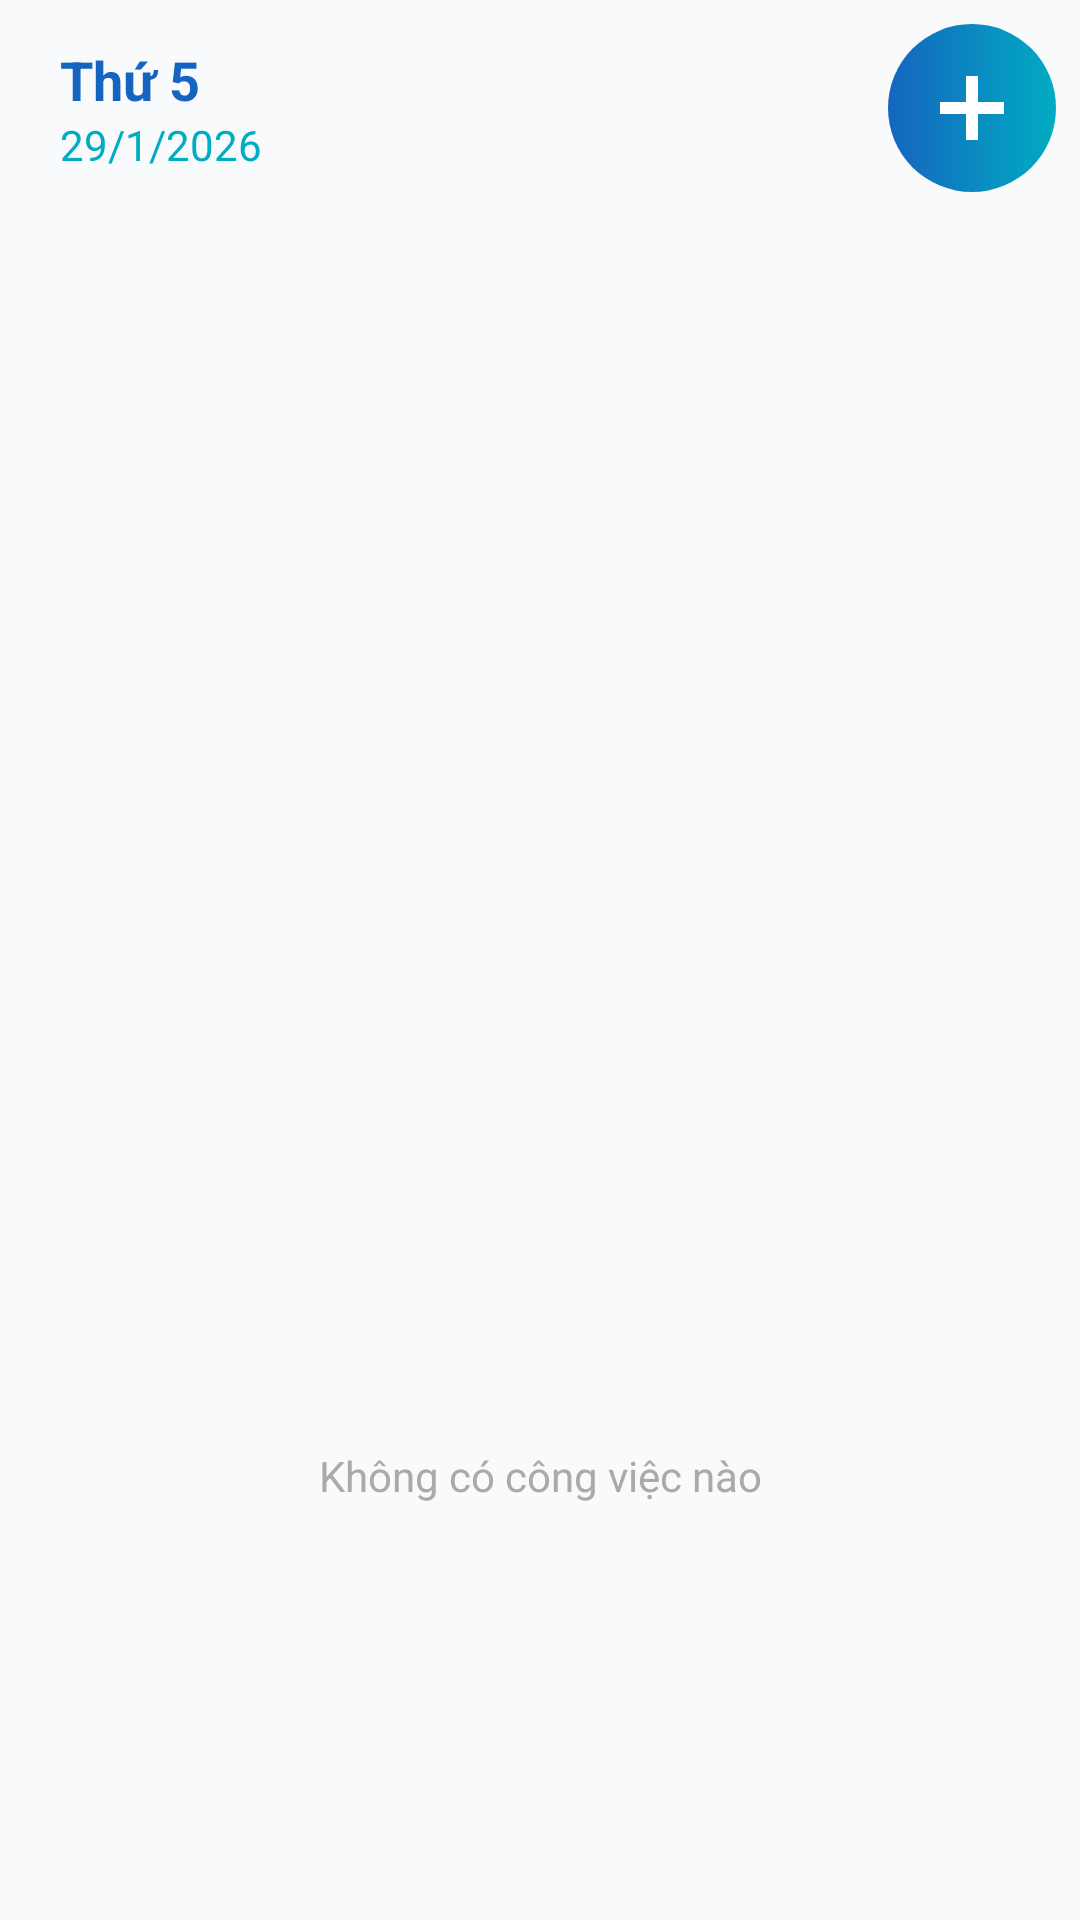

Named icons in this screenshot (1080×1920) and their centers, (x=x, y=y):
Add task: (x=972, y=108)
